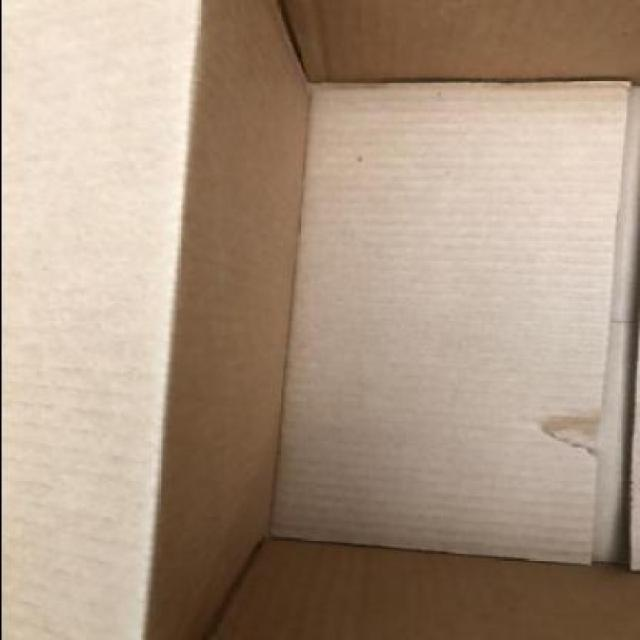CARDBOARD: (1, 0, 640, 638), (265, 77, 627, 566)
